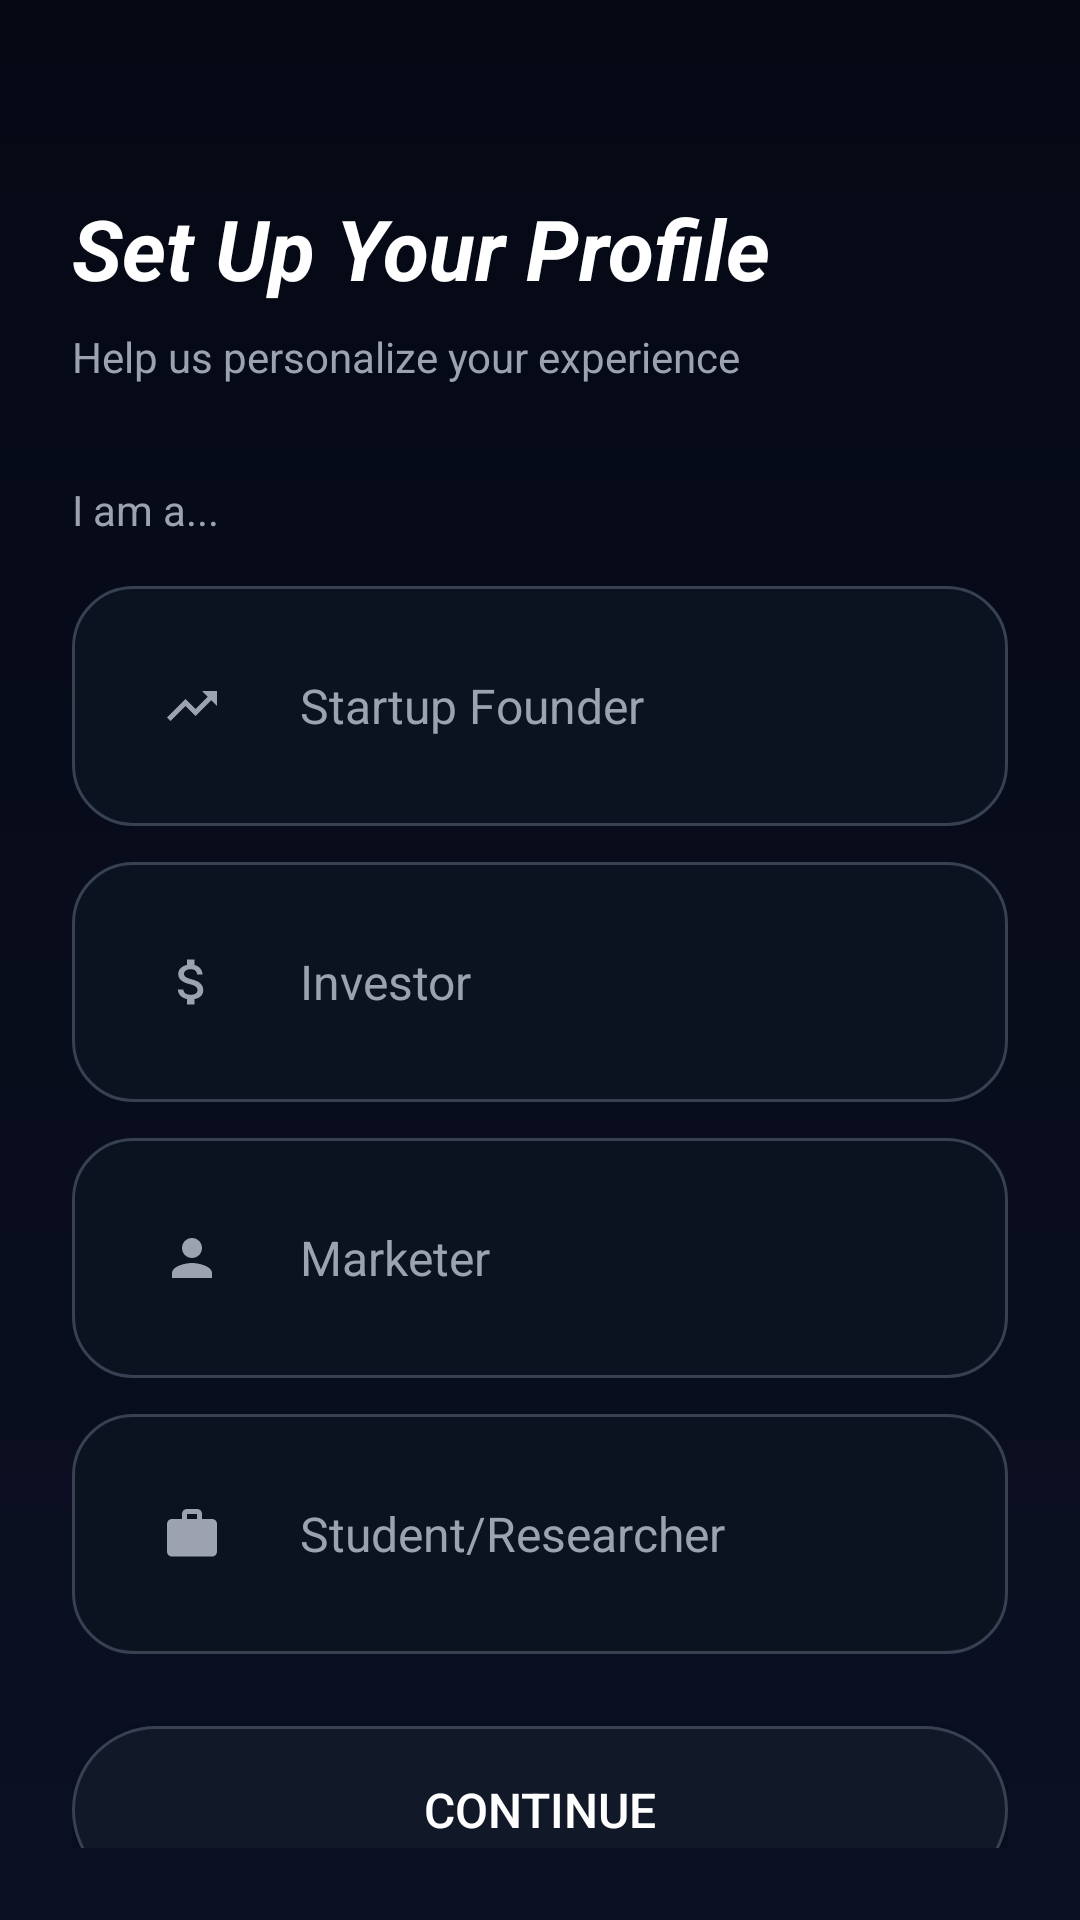

Screen size 1080×1920. Icon name, then its box in pixels as (x1, y1, x2, y2):
case: (167, 1509, 217, 1557)
finance: (178, 959, 204, 1005)
person: (172, 1238, 212, 1278)
trends: (167, 691, 217, 721)
